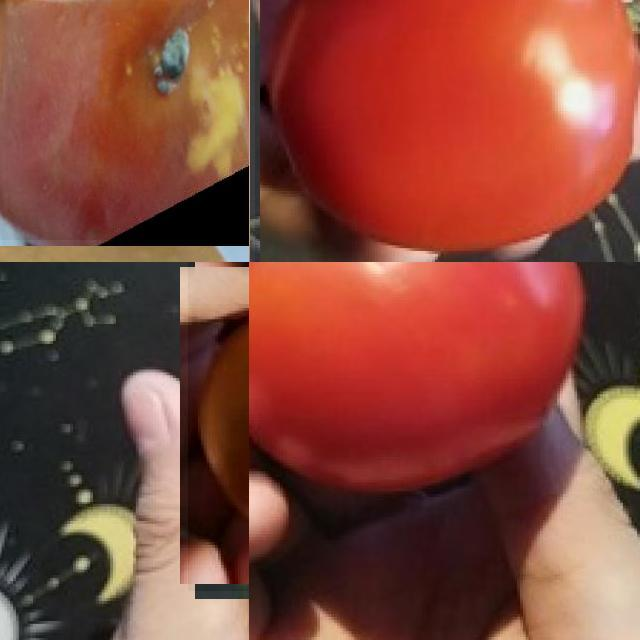Fresh Tomato: (255, 0, 640, 262), (187, 262, 249, 591)
Rotten Tomato: (0, 0, 249, 239)
